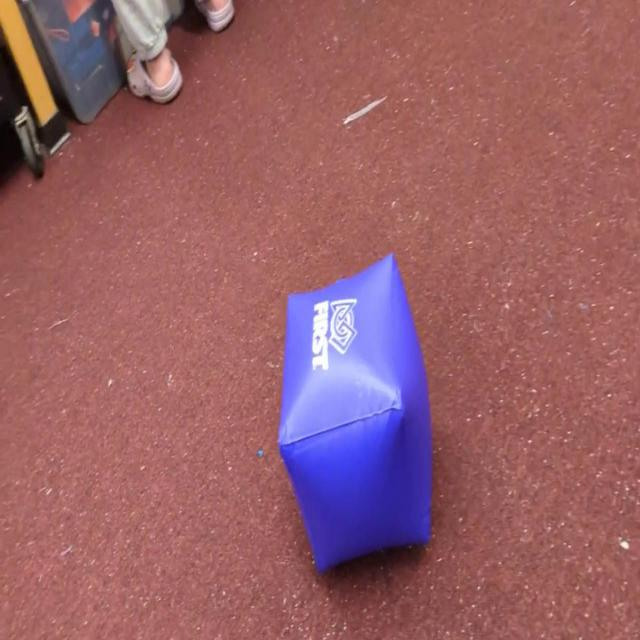frc_cube: (276, 248, 434, 580)
